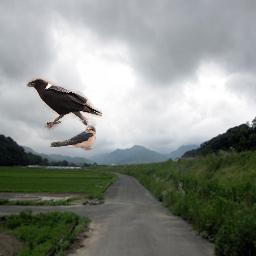Crow: (26, 77, 102, 130)
Swallow: (49, 125, 96, 151)
